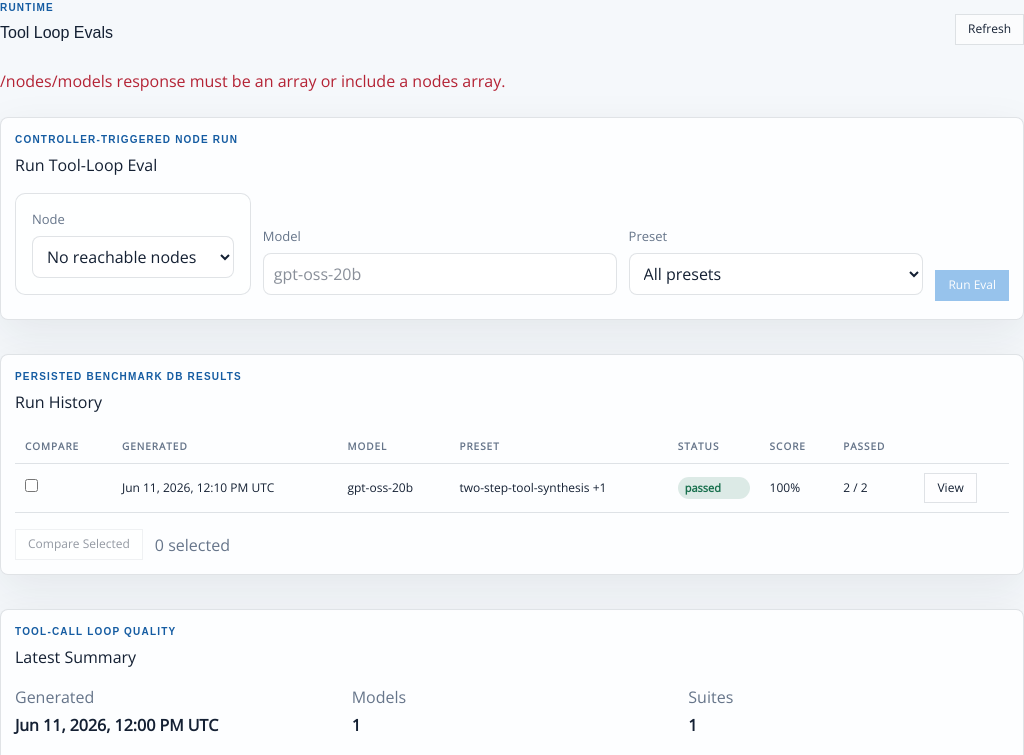
renders latest tool-loop eval summaries and selected case details
Check: the heading "Tool Loop Evals" is shown, box [0,21,113,45]
Check: the heading "Run History" is shown, box [15,390,102,412]
Click the button with aria-label "View run gpt-oss-20b".
click(951, 488)  # box [924,472,977,503]
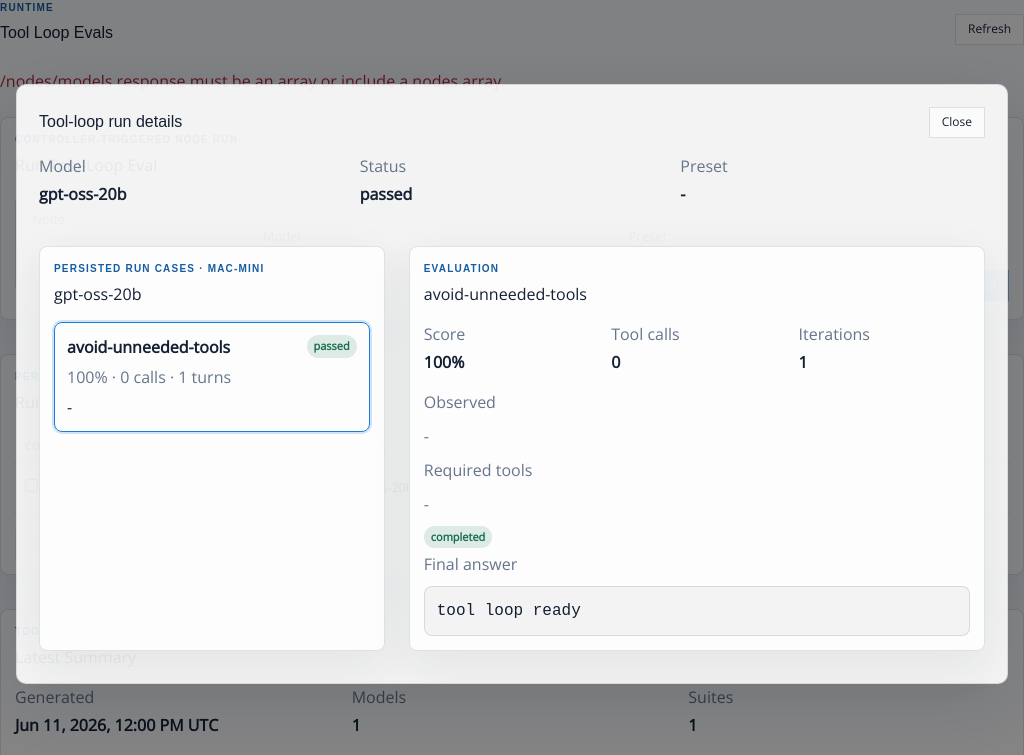
Check: the text "avoid-unneeded-tools" is shown, box [67,335,230,359]
Check: the text "tool loop ready" is shown, box [424,586,970,636]
Check: the text "gpt-oss-20b" is shown, box [39,183,126,205]
